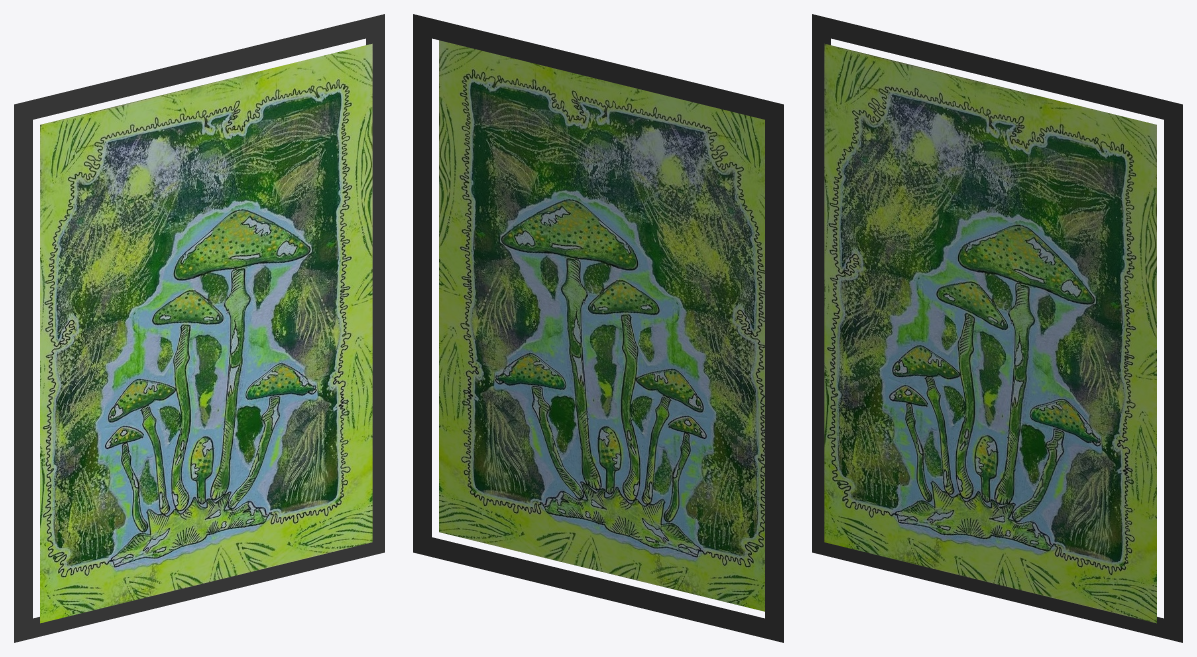
The picture shows the model from 3 angles, left to right: view 1: azimuth 30°, elevation 25°; view 2: azimuth 150°, elevation 25°; view 3: azimuth 330°, elevation 25°; orthographic projection.
Parts seen in each view (by area): view 1: painting; view 2: painting; view 3: painting.
Part boxes in pixels (x1,y1,x2,y2): painting: [14, 14, 384, 642]; painting: [413, 14, 783, 642]; painting: [812, 14, 1182, 642].
Size of the model in its own units: 1.17 by 1.62 by 0.0375.
2 materials, 1 textured.
